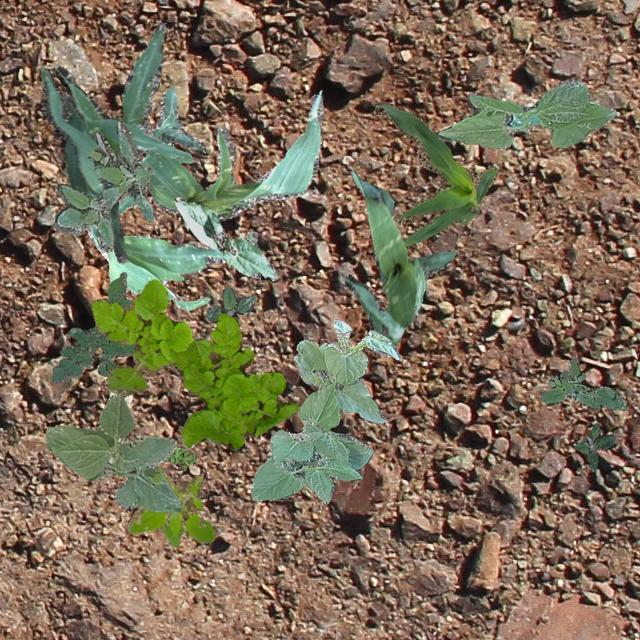crop: (40, 22, 192, 262), (250, 318, 400, 502), (140, 86, 322, 220), (340, 172, 456, 344), (86, 192, 256, 308), (374, 101, 496, 248), (44, 394, 180, 512), (436, 78, 616, 148), (174, 196, 276, 280)
weed: (90, 278, 298, 448), (53, 120, 154, 252), (50, 272, 134, 382), (126, 466, 214, 548), (538, 356, 626, 410), (206, 286, 256, 328), (574, 422, 614, 471), (164, 446, 196, 469)
